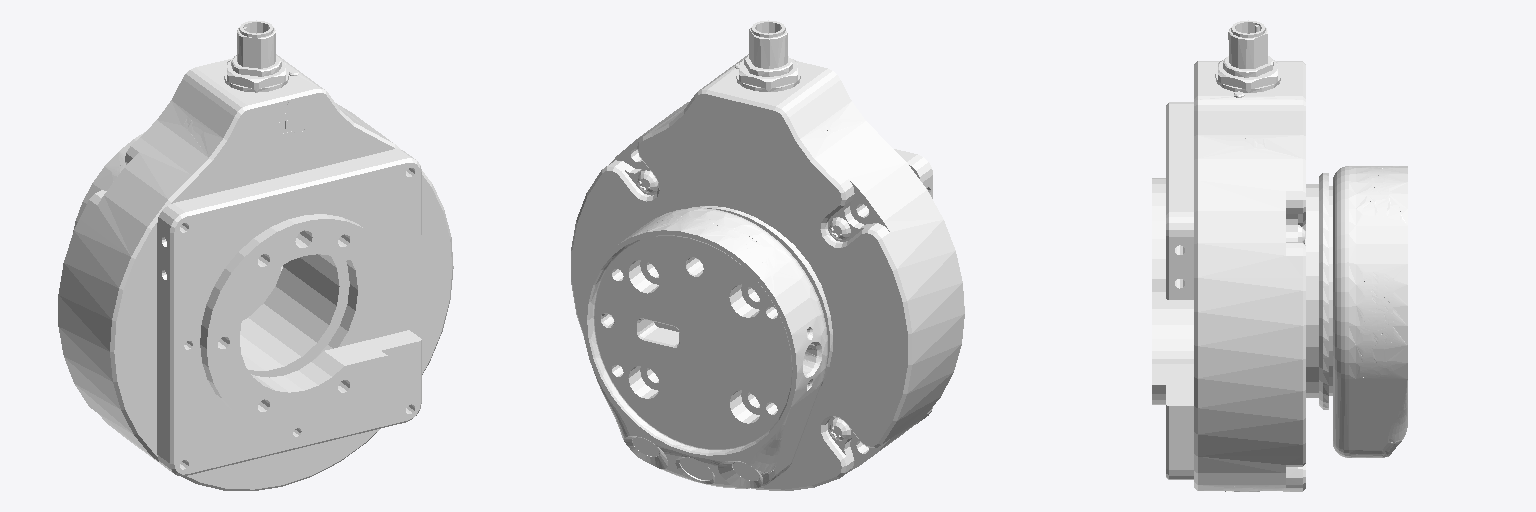
The robot description file, URDF, robot "ur10-robotiq":
<?xml version="1.0"?>
<robot name="ur10-robotiq">

 
   <link name="world"/>
  <joint name="world_joint" type="fixed">
    <parent link="world"/>
    <child link="base_link"/>
    <origin rpy="0.0 0.0 0.0" xyz="0.0 0.0 0.0"/>
  </joint>
  <link name="base_link">
    <visual>
      <geometry>
        <mesh filename="package://ur10_robotiq_description/meshes/ur10/visual/base.dae"/>
      </geometry>
      <material name="LightGrey">
        <color rgba="0.7 0.7 0.7 1.0"/>
      </material>
    </visual>
    <collision>
      <geometry>
        <mesh filename="package://ur10_robotiq_description/meshes/ur10/collision/base.stl"/>
      </geometry>
    </collision>
    <inertial>
      <mass value="4.0"/>
      <origin rpy="0 0 0" xyz="0.0 0.0 0.0"/>
      <inertia ixx="0.0061063308908" ixy="0.0" ixz="0.0" iyy="0.0061063308908" iyz="0.0" izz="0.01125"/>
    </inertial>
  </link>
  <joint name="shoulder_pan_joint" type="revolute">
    <parent link="base_link"/>
    <child link="shoulder_link"/>
    <origin rpy="0.0 0.0 0.0" xyz="0.0 0.0 0.1273"/>
    <axis xyz="0 0 1"/>
    <limit effort="330.0" lower="-6.2831853" upper="6.2831853" velocity="2.16"/>
    <dynamics damping="0.0" friction="0.0"/>
  </joint>
  <link name="shoulder_link">
    <visual>
      <geometry>
        <mesh filename="package://ur10_robotiq_description/meshes/ur10/visual/shoulder.dae"/>
      </geometry>
      <material name="LightGrey">
        <color rgba="0.7 0.7 0.7 1.0"/>
      </material>
    </visual>
    <collision>
      <geometry>
        <mesh filename="package://ur10_robotiq_description/meshes/ur10/collision/shoulder.stl"/>
      </geometry>
    </collision>
    <inertial>
      <mass value="7.778"/>
      <origin rpy="0 0 0" xyz="0.0 0.0 0.0"/>
      <inertia ixx="0.0314743125769" ixy="0.0" ixz="0.0" iyy="0.0314743125769" iyz="0.0" izz="0.021875625"/>
    </inertial>
  </link>
  <joint name="shoulder_lift_joint" type="revolute">
    <parent link="shoulder_link"/>
    <child link="upper_arm_link"/>
    <origin rpy="0.0 1.570796325 0.0" xyz="0.0 0.220941 0.0"/>
    <axis xyz="0 1 0"/>
    <limit effort="330.0" lower="-6.2831853" upper="6.2831853" velocity="2.16"/>
    <dynamics damping="0.0" friction="0.0"/>
  </joint>
  <link name="upper_arm_link">
    <visual>
      <geometry>
        <mesh filename="package://ur10_robotiq_description/meshes/ur10/visual/upperarm.dae"/>
      </geometry>
      <material name="LightGrey">
        <color rgba="0.7 0.7 0.7 1.0"/>
      </material>
    </visual>
    <collision>
      <geometry>
        <mesh filename="package://ur10_robotiq_description/meshes/ur10/collision/upperarm.stl"/>
      </geometry>
    </collision>
    <inertial>
      <mass value="12.93"/>
      <origin rpy="0 0 0" xyz="0.0 0.0 0.306"/>
      <inertia ixx="0.421753803798" ixy="0.0" ixz="0.0" iyy="0.421753803798" iyz="0.0" izz="0.036365625"/>
    </inertial>
  </link>
  <joint name="elbow_joint" type="revolute">
    <parent link="upper_arm_link"/>
    <child link="forearm_link"/>
    <origin rpy="0.0 0.0 0.0" xyz="0.0 -0.1719 0.612"/>
    <axis xyz="0 1 0"/>
    <limit effort="150.0" lower="-6.2831853" upper="6.2831853" velocity="3.15"/>
    <dynamics damping="0.0" friction="0.0"/>
  </joint>
  <link name="forearm_link">
    <visual>
      <geometry>
        <mesh filename="package://ur10_robotiq_description/meshes/ur10/visual/forearm.dae"/>
      </geometry>
      <material name="LightGrey">
        <color rgba="0.7 0.7 0.7 1.0"/>
      </material>
    </visual>
    <collision>
      <geometry>
        <mesh filename="package://ur10_robotiq_description/meshes/ur10/collision/forearm.stl"/>
      </geometry>
    </collision>
    <inertial>
      <mass value="3.87"/>
      <origin rpy="0 0 0" xyz="0.0 0.0 0.28615"/>
      <inertia ixx="0.111069694097" ixy="0.0" ixz="0.0" iyy="0.111069694097" iyz="0.0" izz="0.010884375"/>
    </inertial>
  </link>
  <joint name="wrist_1_joint" type="revolute">
    <parent link="forearm_link"/>
    <child link="wrist_1_link"/>
    <origin rpy="0.0 1.570796325 0.0" xyz="0.0 0.0 0.5723"/>
    <axis xyz="0 1 0"/>
    <limit effort="54.0" lower="-6.2831853" upper="6.2831853" velocity="3.2"/>
    <dynamics damping="0.0" friction="0.0"/>
  </joint>
  <link name="wrist_1_link">
    <visual>
      <geometry>
        <mesh filename="package://ur10_robotiq_description/meshes/ur10/visual/wrist1.dae"/>
      </geometry>
      <material name="LightGrey">
        <color rgba="0.7 0.7 0.7 1.0"/>
      </material>
    </visual>
    <collision>
      <geometry>
        <mesh filename="package://ur10_robotiq_description/meshes/ur10/collision/wrist1.stl"/>
      </geometry>
    </collision>
    <inertial>
      <mass value="1.96"/>
      <origin rpy="0 0 0" xyz="0.0 0.0 0.0"/>
      <inertia ixx="0.0051082479567" ixy="0.0" ixz="0.0" iyy="0.0051082479567" iyz="0.0" izz="0.0055125"/>
    </inertial>
  </link>
  <joint name="wrist_2_joint" type="revolute">
    <parent link="wrist_1_link"/>
    <child link="wrist_2_link"/>
    <origin rpy="0.0 0.0 0.0" xyz="0.0 0.1149 0.0"/>
    <axis xyz="0 0 1"/>
    <limit effort="54.0" lower="-6.2831853" upper="6.2831853" velocity="3.2"/>
    <dynamics damping="0.0" friction="0.0"/>
  </joint>
  <link name="wrist_2_link">
    <visual>
      <geometry>
        <mesh filename="package://ur10_robotiq_description/meshes/ur10/visual/wrist2.dae"/>
      </geometry>
      <material name="LightGrey">
        <color rgba="0.7 0.7 0.7 1.0"/>
      </material>
    </visual>
    <collision>
      <geometry>
        <mesh filename="package://ur10_robotiq_description/meshes/ur10/collision/wrist2.stl"/>
      </geometry>
    </collision>
    <inertial>
      <mass value="1.96"/>
      <origin rpy="0 0 0" xyz="0.0 0.0 0.0"/>
      <inertia ixx="0.0051082479567" ixy="0.0" ixz="0.0" iyy="0.0051082479567" iyz="0.0" izz="0.0055125"/>
    </inertial>
  </link>
  <joint name="wrist_3_joint" type="revolute">
    <parent link="wrist_2_link"/>
    <child link="wrist_3_link"/>
    <origin rpy="0.0 0.0 0.0" xyz="0.0 0.0 0.1157"/>
    <axis xyz="0 1 0"/>
    <limit effort="54.0" lower="-6.2831853" upper="6.2831853" velocity="3.2"/>
    <dynamics damping="0.0" friction="0.0"/>
  </joint>
  <link name="wrist_3_link">
    <visual>
      <geometry>
        <mesh filename="package://ur10_robotiq_description/meshes/ur10/visual/wrist3.dae"/>
      </geometry>
      <material name="LightGrey">
        <color rgba="0.7 0.7 0.7 1.0"/>
      </material>
    </visual>
    <collision>
      <geometry>
        <mesh filename="package://ur10_robotiq_description/meshes/ur10/collision/wrist3.stl"/>
      </geometry>
    </collision>
    <inertial>
      <mass value="0.202"/>
      <origin rpy="0 0 0" xyz="0.0 0.0 0.0"/>
      <inertia ixx="0.000526462289415" ixy="0.0" ixz="0.0" iyy="0.000526462289415" iyz="0.0" izz="0.000568125"/>
    </inertial>
  </link>
  <joint name="ee_fixed_joint" type="fixed">
    <parent link="wrist_3_link"/>
    <child link="torque_cam_link"/>
    <origin rpy="-1.570796325 1.570796325 0" xyz="0.0 0.0922 0.0"/>
  </joint>

  <link name="torque_cam_link">
    <inertial>
      <origin rpy="0.0 0.0 1.570796325" xyz="0.0012681 -0.00047326 0.034075"/>
      <mass value="0.48666"/>
      <inertia ixx="0.00055525" ixy="2.7863E-07" ixz="-1.8803E-05" iyy="0.00064514" iyz="8.0437E-06" izz="0.00088749"/>
    </inertial>
    <visual>
      <origin rpy="0 0 0" xyz="0 0 0"/>
      <geometry>
        <mesh filename="package://ur10_robotiq_description/meshes/robotiq/visual/torque_cam_link.STL"/>
      </geometry>
      <material name="">
        <color rgba="1 1 1 1"/>
      </material>
    </visual>
    <collision>
      <origin rpy="0 0 0" xyz="0 0 0"/>
      <geometry>
        <mesh filename="package://ur10_robotiq_description/meshes/robotiq/collision/torque_cam_link.STL"/>
      </geometry>
    </collision>
  </link>
  <joint name="robotiq_85_base_joint" type="fixed">
    <parent link="torque_cam_link"/>
    <child link="robotiq_85_base_link"/>
    <origin rpy="0 -1.57 0 " xyz="0.0012681 -0.00047326 0.0735"/>
  </joint>
  <link name="robotiq_85_base_link">
    <visual>
      <geometry>
        <mesh filename="package://ur10_robotiq_description/meshes/robotiq/visual/robotiq_85_base_link.dae"/>
      </geometry>
    </visual>
    <collision>
      <geometry>
        <mesh filename="package://ur10_robotiq_description/meshes/robotiq/collision/robotiq_85_base_link.stl"/>
      </geometry>
    </collision>
    <inertial>
      <mass value="0.636951"/>
      <origin rpy="0 0 0" xyz="0 0 0"/>
      <inertia ixx="0.000380" ixy="0.000000" ixz="0.000000" iyx="0.000000" iyy="0.001110" iyz="0.000000" izx="0.000000" izy="0.000000" izz="0.001171"/>
    </inertial>
  </link>

  <joint name="robotiq_85_left_knuckle_joint" type="revolute">
    <parent link="robotiq_85_base_link"/>
    <child link="robotiq_85_left_knuckle_link"/>
    <axis xyz="0 0 1"/>
    <origin rpy="3.14159265 0.0 0.0" xyz="0.05490451627 0.03060114443 0.0"/>
    <limit effort="1000" lower="0.0" upper="0.804" velocity="2.0"/>
  </joint>
    

<joint name="robotiq_85_right_knuckle_joint" type="revolute">  
      <parent link="robotiq_85_base_link"/>
      <child link="robotiq_85_right_knuckle_link"/>
      <axis xyz="0 0 1"/>
      <origin rpy="0.0 0.0 0.0" xyz="0.05490451627 -0.03060114443 0.0"/>
      <limit lower="0.0" upper="0.804" velocity="100.0" effort="1000"/>
      <!--mimic joint="${prefix}robotiq_85_left_knuckle_joint" /$$$$$$$$$$$$$$$$$$$$$$$$$$$$$$$-->
    </joint>

 
 <link name="robotiq_85_left_knuckle_link">
    <visual>
      <geometry>
        <mesh filename="package://ur10_robotiq_description/meshes/robotiq/visual/robotiq_85_knuckle_link.dae"/>
      </geometry>
    </visual>
    <collision>
      <geometry>
        <mesh filename="package://ur10_robotiq_description/meshes/robotiq/collision/robotiq_85_knuckle_link.stl"/>
      </geometry>
    </collision>
    <inertial>
      <mass value="0.018491"/>
      <origin xyz="0.0 0.0 0.0"/>
      <inertia ixx="0.000009" ixy="-0.000001" ixz="0.000000" iyx="-0.000001" iyy="0.000001" iyz="0.000000" izx="0.000000" izy="0.000000" izz="0.000010"/>
    </inertial>
  </link>

  <link name="robotiq_85_right_knuckle_link">
    <visual>
      <geometry>
        <mesh filename="package://ur10_robotiq_description/meshes/robotiq/visual/robotiq_85_knuckle_link.dae"/>
      </geometry>
    </visual>
    <collision>
      <geometry>
        <mesh filename="package://ur10_robotiq_description/meshes/robotiq/collision/robotiq_85_knuckle_link.stl"/>
      </geometry>
    </collision>
    <inertial>
      <mass value="0.018491"/>
      <origin xyz="0.0 0.0 0.0"/>
      <inertia ixx="0.000009" ixy="-0.000001" ixz="0.000000" iyx="-0.000001" iyy="0.000001" iyz="0.000000" izx="0.000000" izy="0.000000" izz="0.000010"/>
    </inertial>
  </link>

  <joint name="robotiq_85_left_finger_joint" type="fixed">
    <parent link="robotiq_85_left_knuckle_link"/>
    <child link="robotiq_85_left_finger_link"/>
    <origin rpy="0 0 0" xyz="-0.00408552455 -0.03148604435 0.0"/>
  </joint>
  <joint name="robotiq_85_right_finger_joint" type="fixed">
    <parent link="robotiq_85_right_knuckle_link"/>
    <child link="robotiq_85_right_finger_link"/>
    <origin rpy="0 0 0" xyz="-0.00408552455 -0.03148604435 0.0"/>
  </joint>

  <link name="robotiq_85_left_finger_link">
    <visual>
      <geometry>
        <mesh filename="package://ur10_robotiq_description/meshes/robotiq/visual/robotiq_85_finger_link.dae"/>
      </geometry>
    </visual>
    <collision>
      <geometry>
        <mesh filename="package://ur10_robotiq_description/meshes/robotiq/collision/robotiq_85_finger_link.stl"/>
      </geometry>
    </collision>
    <inertial>
      <mass value="0.027309"/>
      <origin xyz="0.0 0.0 0.0"/>
      <inertia ixx="0.000003" ixy="-0.000002" ixz="0.000000" iyx="-0.000002" iyy="0.000021" iyz="0.000000" izx="0.000000" izy="0.000000" izz="0.000020"/>
    </inertial>
  </link>
  <link name="robotiq_85_right_finger_link">
    <visual>
      <geometry>
        <mesh filename="package://ur10_robotiq_description/meshes/robotiq/visual/robotiq_85_finger_link.dae"/>
      </geometry>
    </visual>
    <collision>
      <geometry>
        <mesh filename="package://ur10_robotiq_description/meshes/robotiq/collision/robotiq_85_finger_link.stl"/>
      </geometry>
    </collision>
    <inertial>
      <mass value="0.027309"/>
      <origin xyz="0.0 0.0 0.0"/>
      <inertia ixx="0.000003" ixy="-0.000002" ixz="0.000000" iyx="-0.000002" iyy="0.000021" iyz="0.000000" izx="0.000000" izy="0.000000" izz="0.000020"/>
    </inertial>
  </link>

  <joint name="robotiq_85_left_inner_knuckle_joint" type="continuous">
    <parent link="robotiq_85_base_link"/>
    <child link="robotiq_85_left_inner_knuckle_link"/>
    <axis xyz="0 0 1"/>
    <origin rpy="3.14159265 0.0 0.0" xyz="0.06142 0.0127 0"/>
    <limit effort="0.1" lower="-3.14" upper="3.14" velocity="100.0"/>
    <mimic joint="robotiq_85_left_knuckle_joint" offset="0"/>
  </joint>


    <joint name="robotiq_85_right_inner_knuckle_joint" type="continuous">
      <parent link="robotiq_85_base_link"/>
      <child link="robotiq_85_right_inner_knuckle_link"/>
      <axis xyz="0 0 1"/>
      <origin xyz="0.06142 -0.0127 0" rpy="0 0 0"/>
      <limit lower="-3.14" upper="3.14" velocity="100.0" effort="0.1"/>
      <mimic joint="robotiq_85_right_knuckle_joint" offset="0" />    
    </joint>


  <link name="robotiq_85_left_inner_knuckle_link">
    <visual>
      <geometry>

        <mesh filename="package://ur10_robotiq_description/meshes/robotiq/visual/robotiq_85_inner_knuckle_link.dae"/>
      </geometry>
    </visual>
    <collision>
      <geometry>
        <mesh filename="package://ur10_robotiq_description/meshes/robotiq/collision/robotiq_85_inner_knuckle_link.stl"/>
      </geometry>
    </collision>
    <inertial>
      <mass value="0.029951"/>
      <origin xyz="0.0 0.0 0.0"/>
      <inertia ixx="0.000039" ixy="0.000000" ixz="0.000000" iyx="0.000000" iyy="0.000005" iyz="0.000000" izx="0.000000" izy="0.000000" izz="0.000035"/>
    </inertial>
  </link>
  <link name="robotiq_85_right_inner_knuckle_link">
    <visual>
      <geometry>
        <mesh filename="package://ur10_robotiq_description/meshes/robotiq/visual/robotiq_85_inner_knuckle_link.dae"/>
      </geometry>
    </visual>
    <collision>
      <geometry>
        <mesh filename="package://ur10_robotiq_description/meshes/robotiq/collision/robotiq_85_inner_knuckle_link.stl"/>
      </geometry>
    </collision>
    <inertial>
      <mass value="0.029951"/>
      <origin xyz="0.0 0.0 0.0"/>
      <inertia ixx="0.000039" ixy="0.000000" ixz="0.000000" iyx="0.000000" iyy="0.000005" iyz="0.000000" izx="0.000000" izy="0.000000" izz="0.000035"/>
    </inertial>
  </link>

  <joint name="robotiq_85_left_finger_tip_joint" type="continuous">
    <parent link="robotiq_85_left_inner_knuckle_link"/>
    <child link="robotiq_85_left_finger_tip_link"/>
    <axis xyz="0 0 1"/>
    <origin rpy="0.0 0.0 0.0" xyz="0.04303959807 -0.03759940821 0.0"/>
    <limit effort="0.1" lower="-3.14" upper="3.14" velocity="100.0"/>
    <mimic joint="robotiq_85_left_knuckle_joint" multiplier="-1"/>
  </joint>
  <joint name="robotiq_85_right_finger_tip_joint" type="continuous">
    <parent link="robotiq_85_right_inner_knuckle_link"/>
    <child link="robotiq_85_right_finger_tip_link"/>
    <axis xyz="0 0 1"/>
    <origin rpy="0.0 0.0 0.0" xyz="0.04303959807 -0.03759940821  0.0"/>
    <limit effort="0.1" lower="-3.14" upper="3.14" velocity="100.0"/>
    <mimic joint="robotiq_85_right_knuckle_joint" multiplier="-1"/>
  </joint>

  <link name="robotiq_85_left_finger_tip_link">
    <visual>
      <geometry>
        <mesh filename="package://ur10_robotiq_description/meshes/robotiq/visual/robotiq_85_finger_tip_link.dae"/>
      </geometry>
    </visual>
    <collision>
      <geometry>
        <mesh filename="package://ur10_robotiq_description/meshes/robotiq/collision/robotiq_85_finger_tip_link.stl"/>
      </geometry>
    </collision>
    <inertial>
      <mass value="0.019555"/>
      <origin xyz="0.0 0.0 0.0"/>
      <inertia ixx="0.000002" ixy="0.000000" ixz="0.000000" iyx="0.000000" iyy="0.000005" iyz="0.000000" izx="0.000000" izy="0.000000" izz="0.000006"/>
    </inertial>
  </link>

  <link name="robotiq_85_right_finger_tip_link">
    <visual>
      <geometry>
        <mesh filename="package://ur10_robotiq_description/meshes/robotiq/visual/robotiq_85_finger_tip_link.dae"/>
      </geometry>
    </visual>
    <collision>
      <geometry>
        <mesh filename="package://ur10_robotiq_description/meshes/robotiq/collision/robotiq_85_finger_tip_link.stl"/>
      </geometry>
    </collision>
    <inertial>
      <mass value="0.019555"/>
      <origin xyz="0.0 0.0 0.0"/>
      <inertia ixx="0.000002" ixy="0.000000" ixz="0.000000" iyx="0.000000" iyy="0.000005" iyz="0.000000" izx="0.000000" izy="0.000000" izz="0.000006"/>
    </inertial>
  </link>
 
 
 
</robot>

--- What the picture shows (computed from the rendered views, not written in the file) ---
3 views of the same robot in one strip: view 1: azimuth 30°, elevation 25°; view 2: azimuth 150°, elevation 25°; view 3: azimuth 270°, elevation 25° (orthographic).
Model ur10-robotiq with 18 links and 17 joints (8 revolute, 4 continuous, 5 fixed), rooted at world, posed every joint at zero.
Visible links, largest first — view 1: torque_cam_link; view 2: torque_cam_link; view 3: torque_cam_link.
Boxes of the visible links, box(x1,y1,x2,y2) form: torque_cam_link: box(58, 20, 453, 490); torque_cam_link: box(571, 20, 964, 490); torque_cam_link: box(1152, 20, 1407, 491).
Bounding box of the posed robot: 0.12 × 0.0764 × 0.147 m (x, y, z).
Meshes: 13 distinct files referenced, 1 mesh visuals loaded (1 binary STL); not drawn: 16 (reference not matched to a file when rendering).